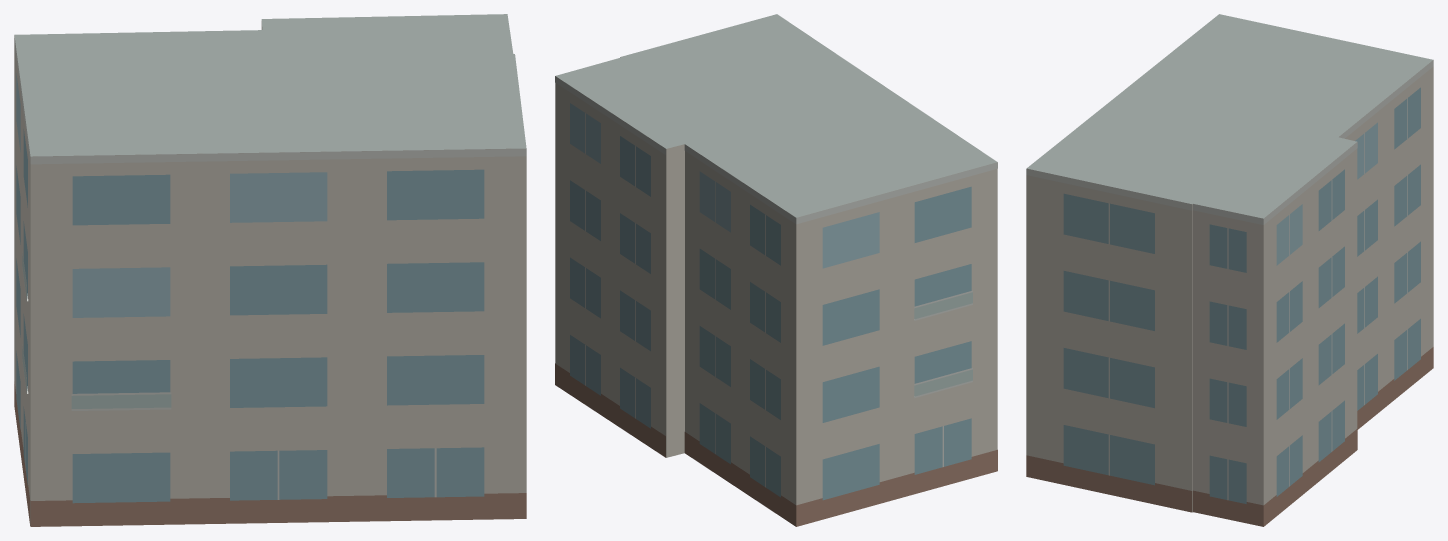
The model's file is survey-upis-32827713.glb.
3 views of the same model, side by side, from view 1: azimuth 30°, elevation 25°; view 2: azimuth 150°, elevation 25°; view 3: azimuth 270°, elevation 25° (orthographic). The views are drawn at different scales.
Visible parts, largest first — view 1: survey-upis-32827713.tmp; view 2: survey-upis-32827713.tmp; view 3: survey-upis-32827713.tmp.
Part boxes in pixels (left/top/right/bottom): survey-upis-32827713.tmp: left=14, top=14, right=526, bottom=526; survey-upis-32827713.tmp: left=555, top=14, right=997, bottom=526; survey-upis-32827713.tmp: left=1026, top=14, right=1433, bottom=526.
Bounding box in the file's own units: 16.38 × 11.5 × 13.77.
